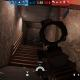Character: (33, 38, 38, 47)
Head: (33, 38, 36, 40)
